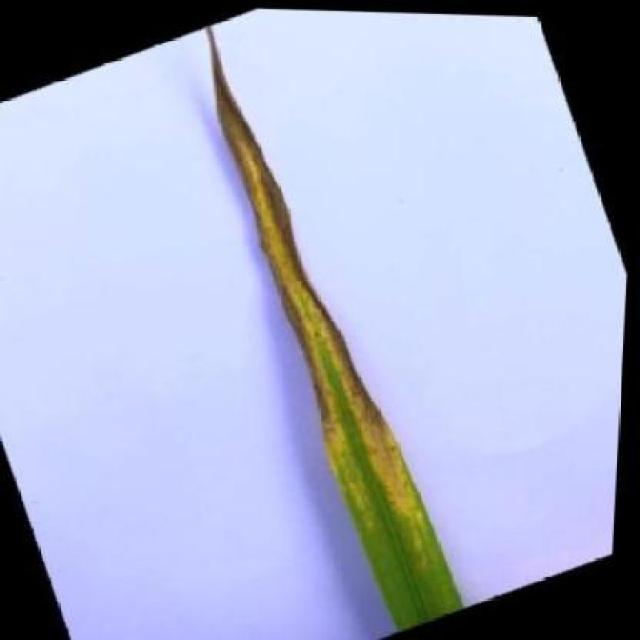Rice False Smut: (152, 7, 497, 638)
